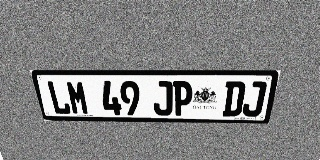4: (99, 81, 122, 115)
9: (119, 81, 141, 115)
D: (222, 81, 246, 116)
J: (241, 81, 268, 117), (153, 81, 173, 116)
L: (46, 80, 72, 114)
M: (65, 81, 90, 115)
P: (173, 81, 193, 116)
